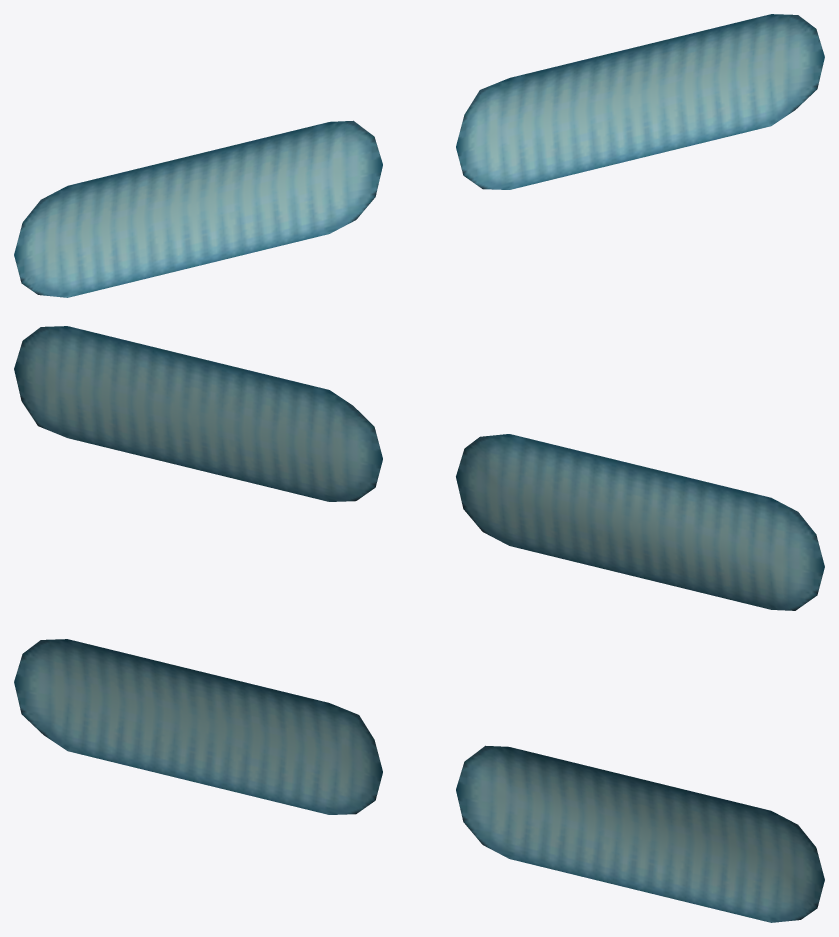
The model's file is lambda_engine_on_l0.fbx.
3 renders of one model, top to bottom at view 1: azimuth 30°, elevation 25°; view 2: azimuth 150°, elevation 25°; view 3: azimuth 330°, elevation 25°, orthographic.
Parts seen in each view (by area): view 1: mesh_node; view 2: mesh_node; view 3: mesh_node.
Boxes of the visible parts, x1,y1,x2,y2 form: mesh_node: [14, 14, 824, 297]; mesh_node: [14, 326, 824, 610]; mesh_node: [14, 639, 824, 922].
Size of the model in its own units: 11.16 by 1.47 by 0.125.
